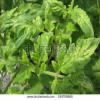Tomato leaf mosaic virus: (56, 37, 99, 73), (1, 10, 43, 40), (68, 7, 96, 40), (30, 32, 54, 66), (49, 79, 80, 94), (12, 63, 34, 84), (43, 1, 56, 35)
